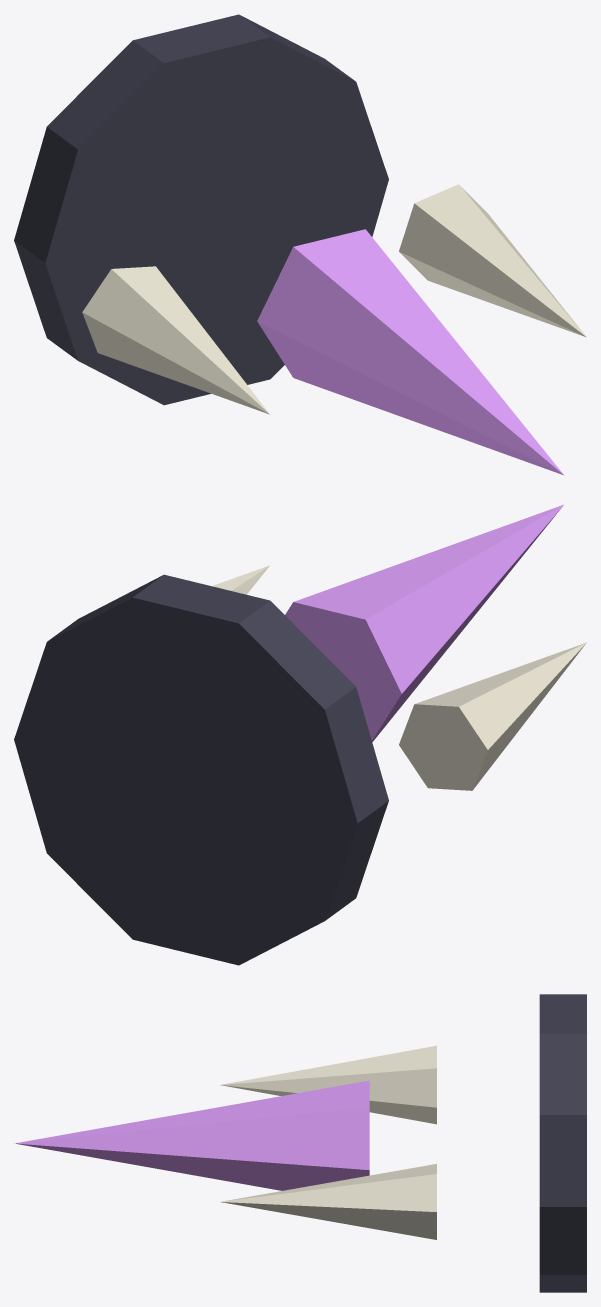
Rendered from 03_low_poly_silhouette_overlay_3.glb.
3 views of the same model, one above another, from view 1: azimuth 30°, elevation 25°; view 2: azimuth 150°, elevation 25°; view 3: azimuth 270°, elevation 25° (orthographic). The views are drawn at different scales.
Visible parts, largest first — view 1: socket_base, silhouette_spike_main, silhouette_spike_l, silhouette_spike_r; view 2: socket_base, silhouette_spike_main, silhouette_spike_l, silhouette_spike_r; view 3: silhouette_spike_main, socket_base, silhouette_spike_r, silhouette_spike_l.
Boxes of the visible parts, bbox=[...] form: socket_base: bbox=[14, 14, 388, 405]; silhouette_spike_main: bbox=[257, 229, 563, 475]; silhouette_spike_l: bbox=[82, 266, 269, 414]; silhouette_spike_r: bbox=[399, 184, 586, 337]; socket_base: bbox=[14, 574, 388, 965]; silhouette_spike_main: bbox=[285, 504, 563, 741]; silhouette_spike_l: bbox=[399, 642, 586, 790]; silhouette_spike_r: bbox=[212, 565, 269, 594]; silhouette_spike_main: bbox=[14, 1080, 369, 1190]; socket_base: bbox=[539, 994, 586, 1292]; silhouette_spike_r: bbox=[220, 1164, 436, 1239]; silhouette_spike_l: bbox=[220, 1045, 436, 1124].
Size of the model in its own units: 0.897 by 0.7228 by 1.45.
